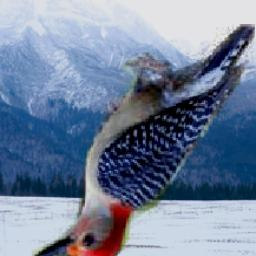Woodpecker: (33, 24, 256, 256)
